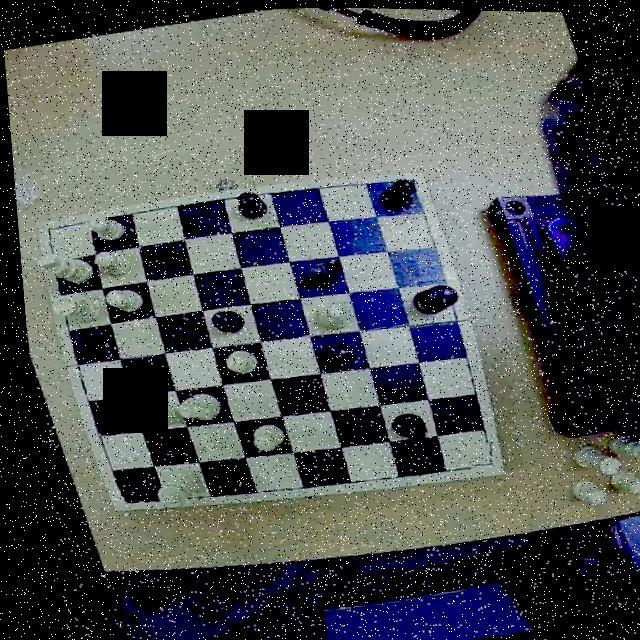chess-table-corners: (456, 436, 498, 474), (388, 168, 426, 204), (101, 478, 139, 512), (33, 217, 66, 247)
